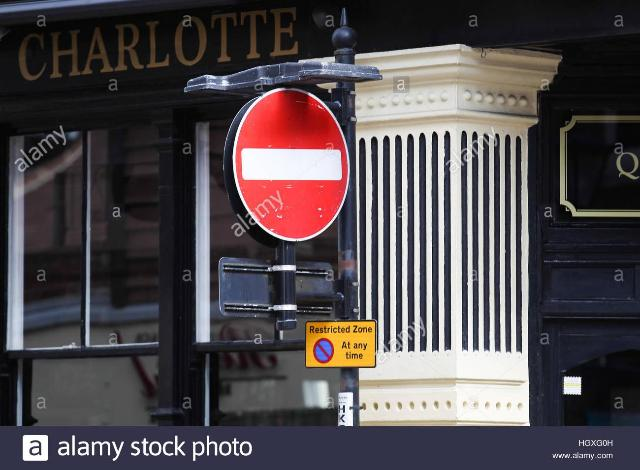B2: (223, 87, 351, 244), (304, 320, 376, 368)
